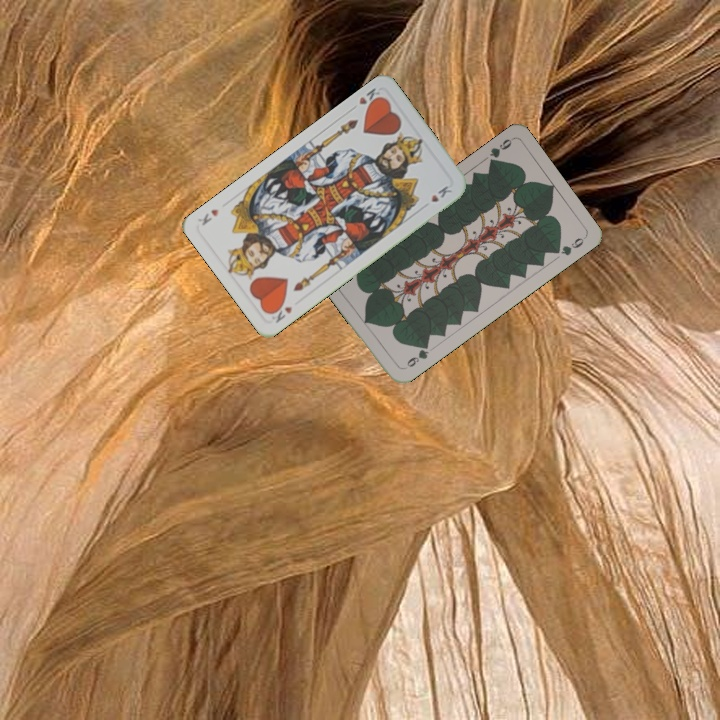G9: (399, 340, 432, 372), (485, 134, 515, 168)
HK: (346, 84, 385, 113), (265, 299, 295, 326)
